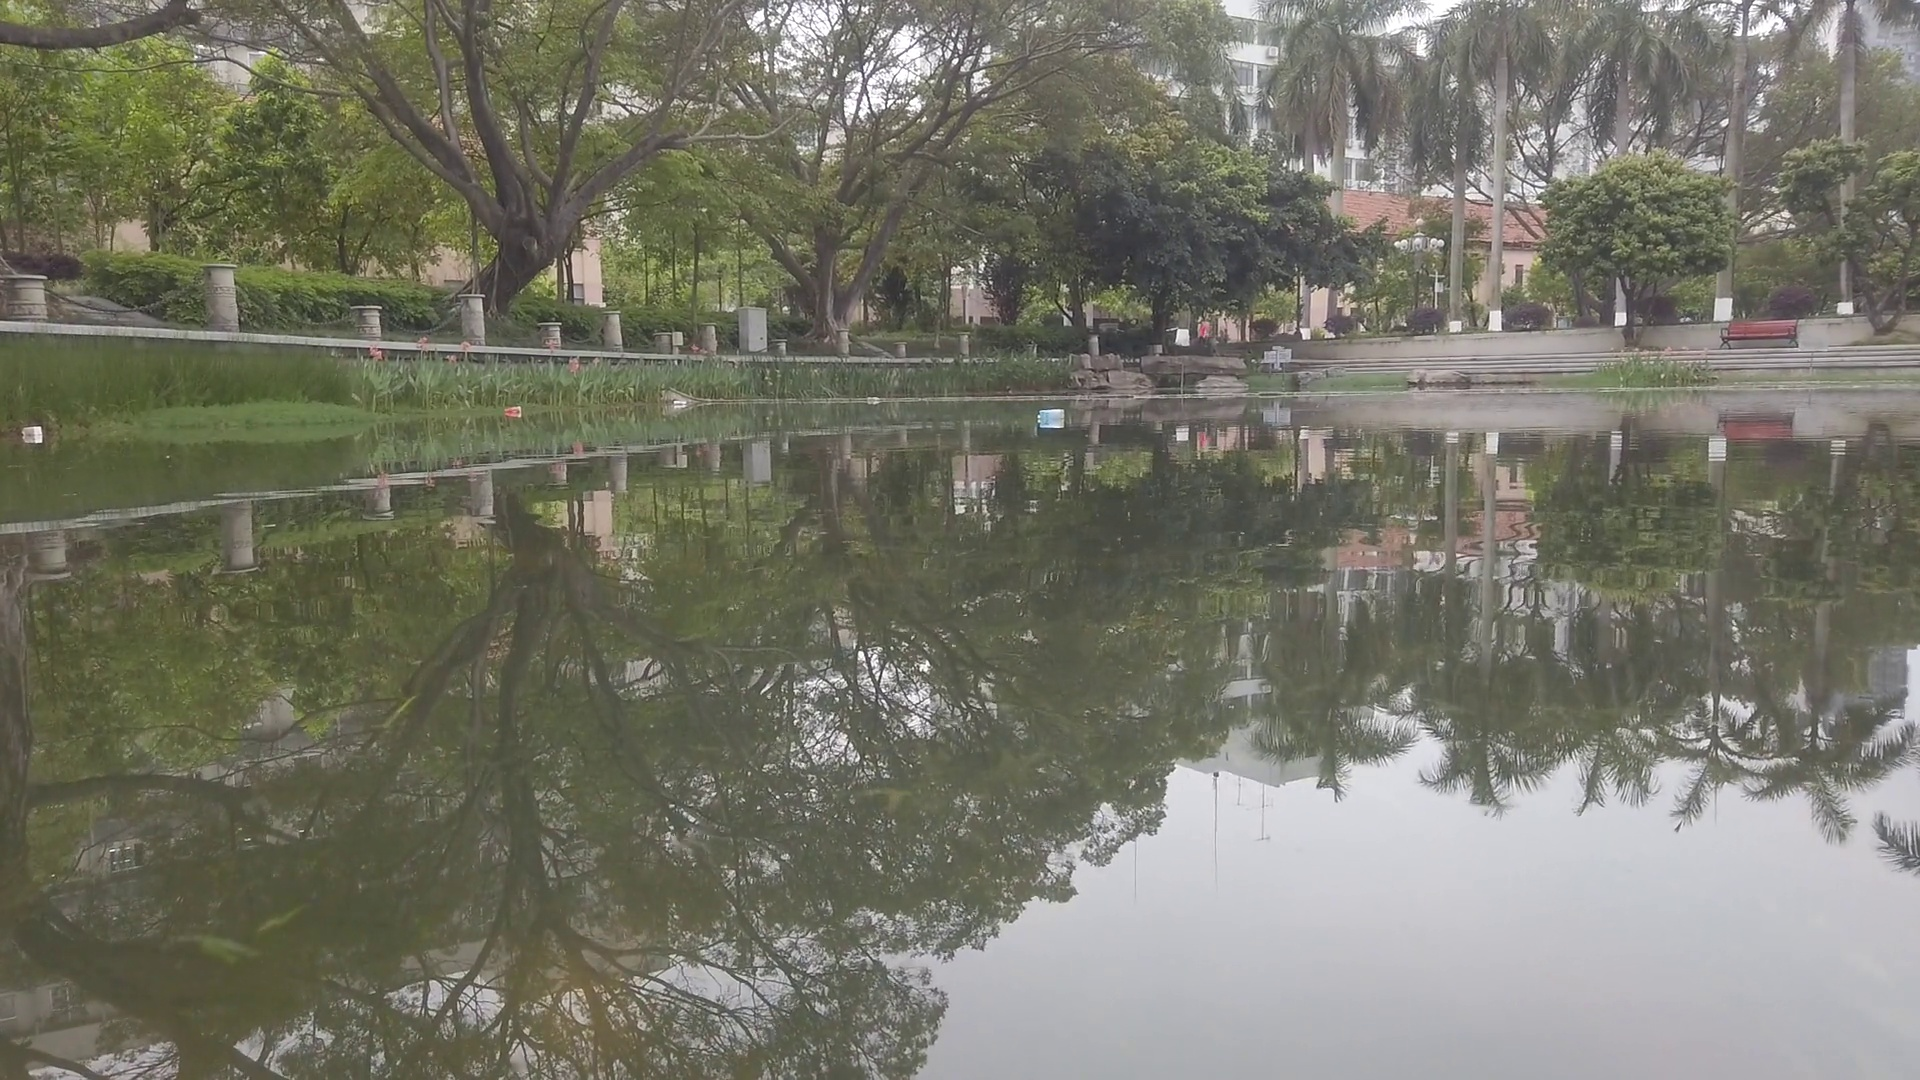bottle: (502, 405, 521, 415), (866, 396, 882, 404), (675, 401, 686, 406)
carton: (1036, 407, 1065, 430), (21, 425, 42, 439)
